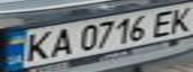0: (75, 21, 100, 52)
1: (112, 16, 136, 44)
6: (127, 11, 154, 42)
7: (93, 18, 118, 48)
A: (45, 26, 75, 57)
E: (148, 7, 181, 38)
K: (18, 29, 57, 63), (166, 3, 193, 34)
